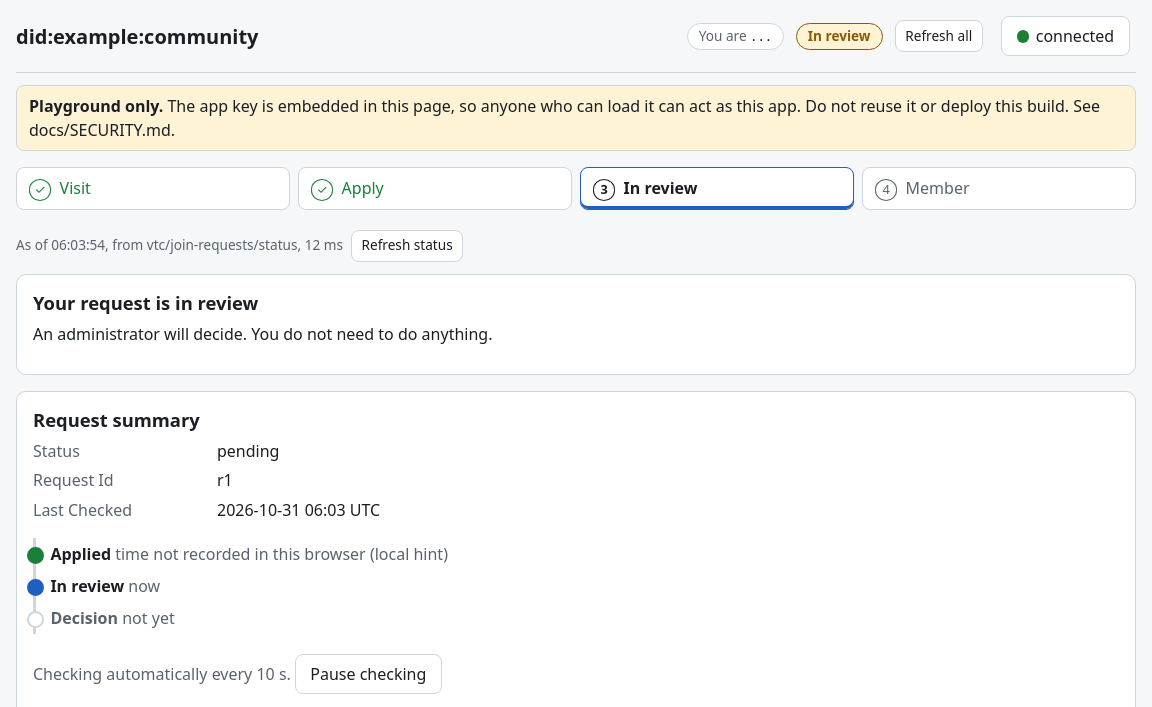
Test: as-of line and Refresh › Refresh status follows a change made elsewhere (the CLI approving), and only then
Click the button "Refresh status" at (407, 246), box [351,230,463,262]
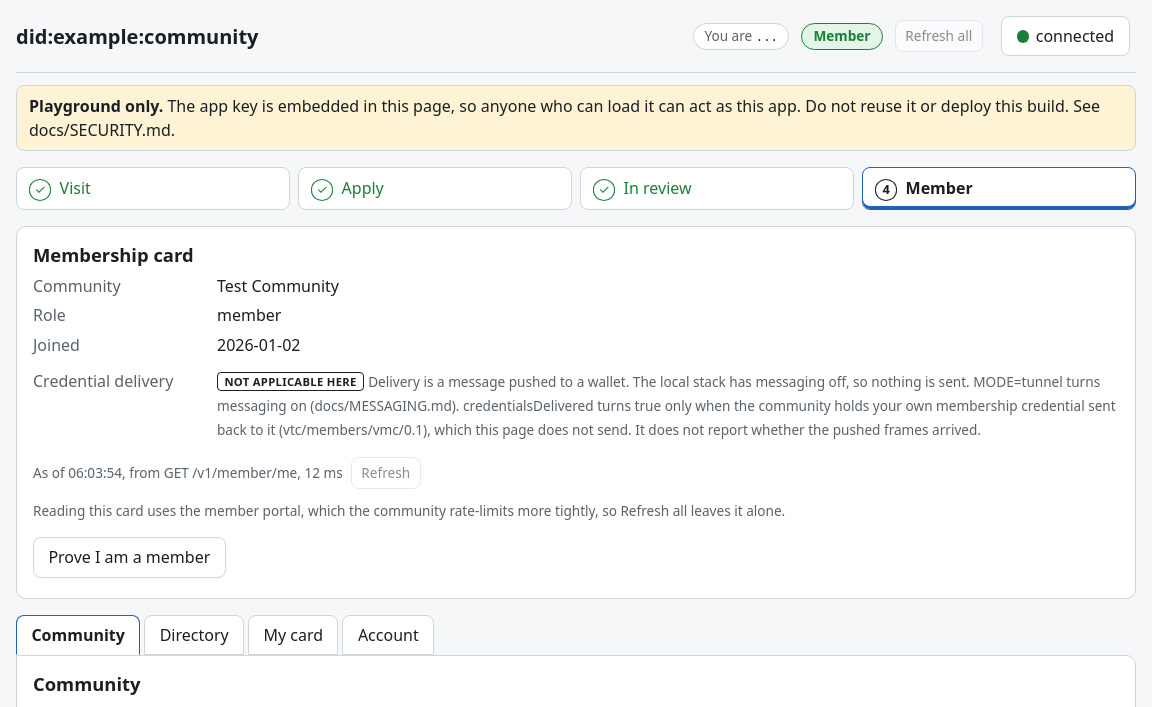
Expected: the message "Member" is shown, [801,23,883,50]
